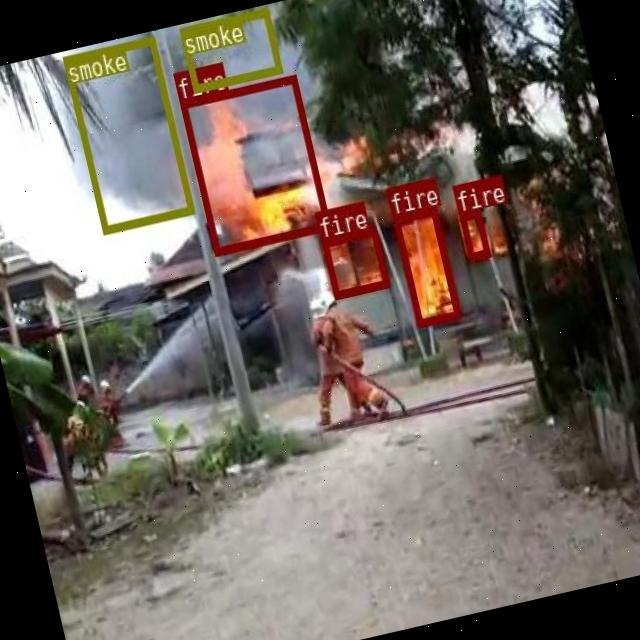fire: (180, 74, 330, 254), (390, 206, 460, 326), (320, 226, 389, 298), (458, 208, 490, 260)
smoke: (62, 35, 194, 233), (178, 8, 280, 90)
